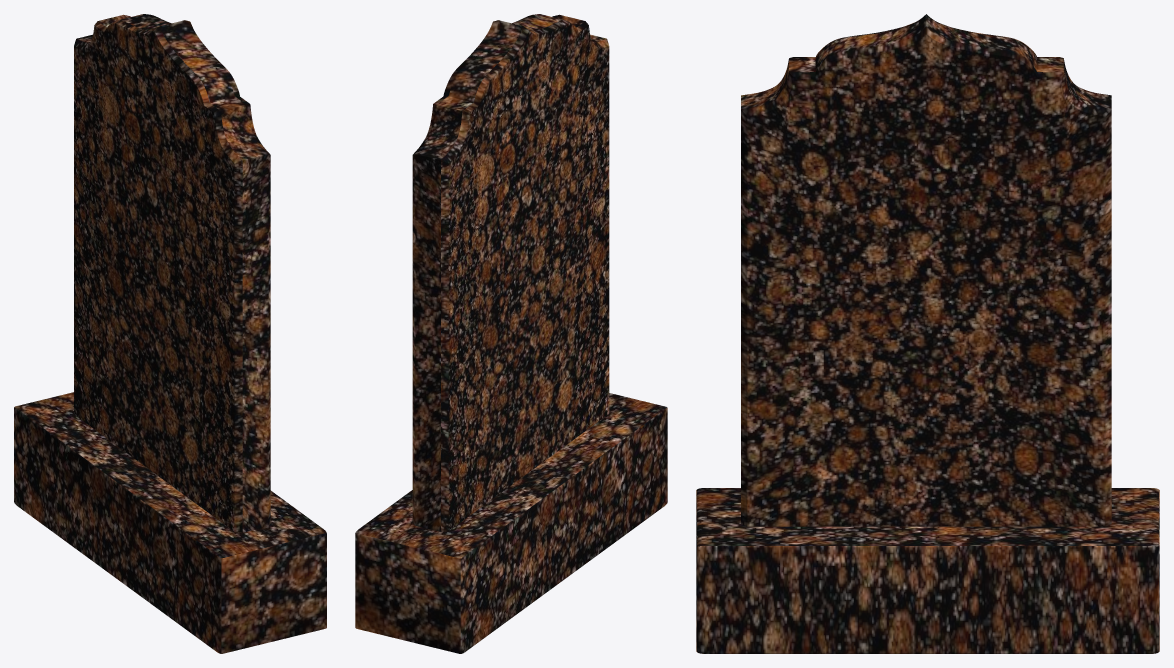
Rendered from Памятник вола Дымовски [granite_u_u] (60).glb.
The picture shows the model from 3 angles, left to right: view 1: azimuth 30°, elevation 25°; view 2: azimuth 150°, elevation 25°; view 3: azimuth 270°, elevation 25°; orthographic projection. The views are drawn at different scales.
Parts seen in each view (by area): view 1: Cube.045; view 2: Cube.045; view 3: Cube.045.
Boxes of the visible parts, x1,y1,x2,y2 form: Cube.045: (14, 14, 326, 653); Cube.045: (355, 14, 667, 653); Cube.045: (696, 14, 1159, 653).
Size of the model in its own units: 0.15 by 0.7208 by 0.5.
1 material, 1 textured.
